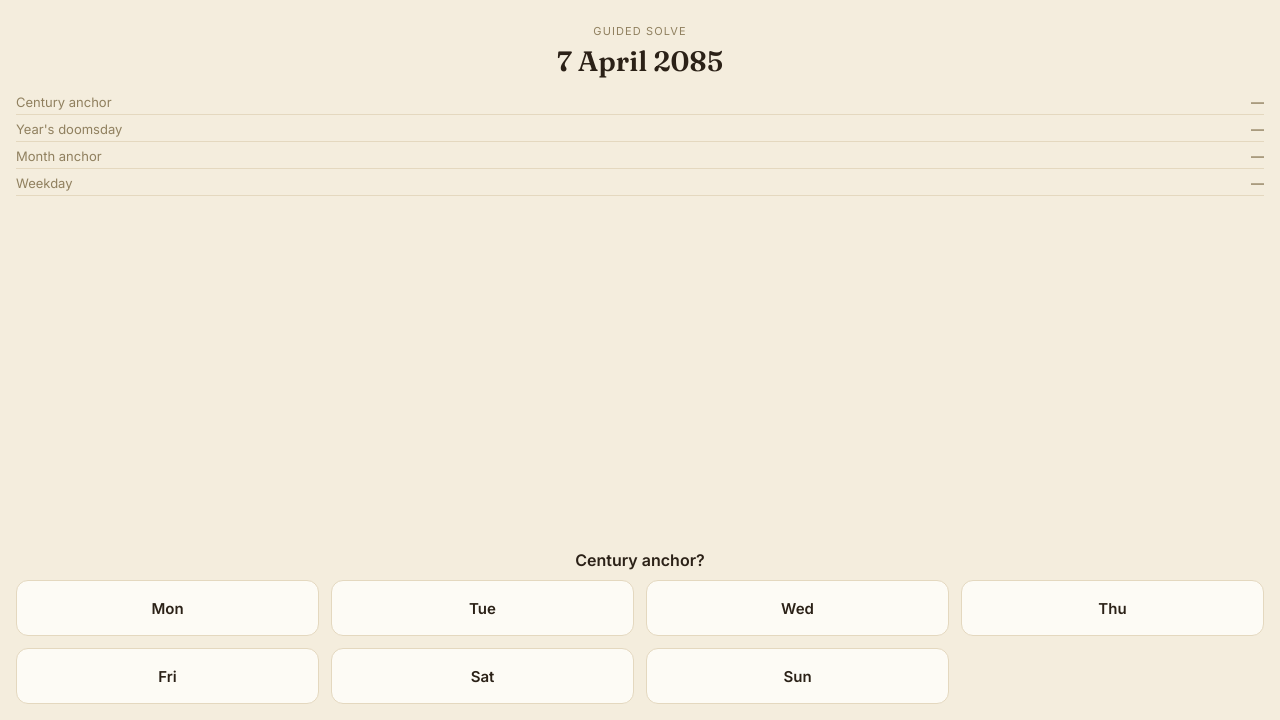
GuidedSolve › flags the year's-doomsday step independently right after its pick
# Correct century anchor, then a wrong year's doomsday.
Click the button with aria-label "Tuesday". click: click(482, 608)
box: [331,580,634,636]
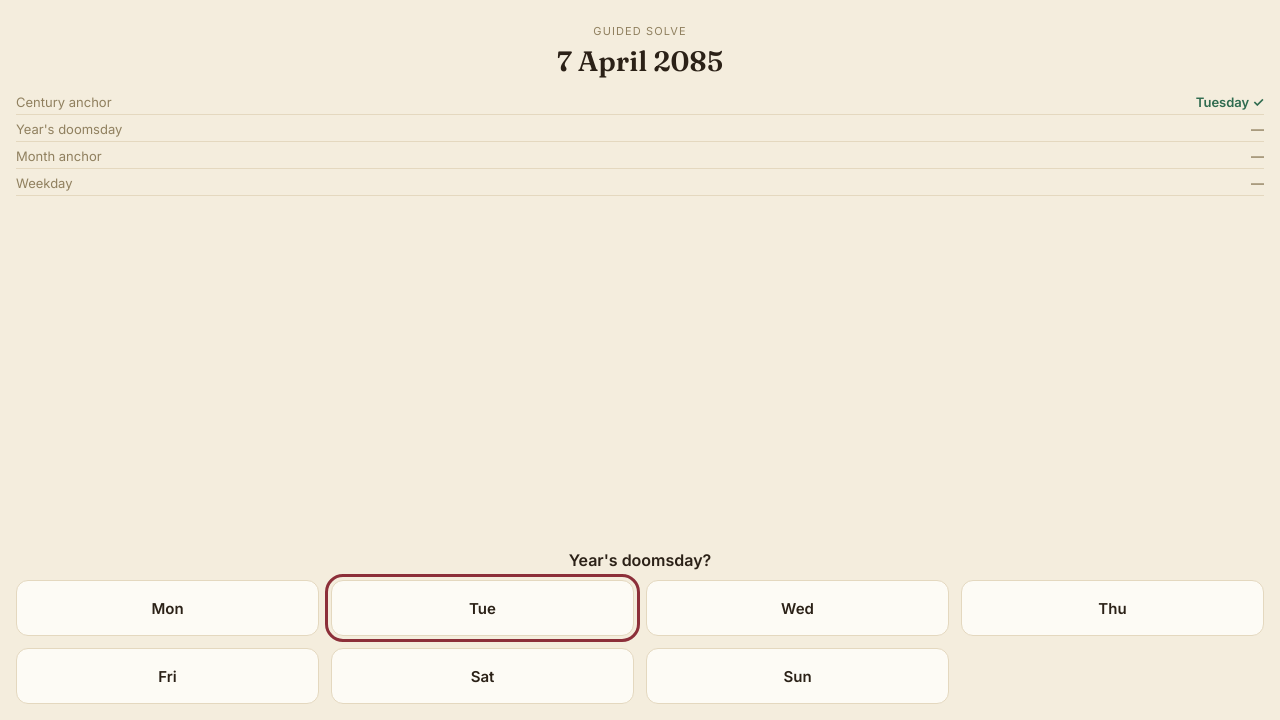
Click the button with aria-label "Thursday". click: click(1112, 608)
box: [961,580,1264,636]
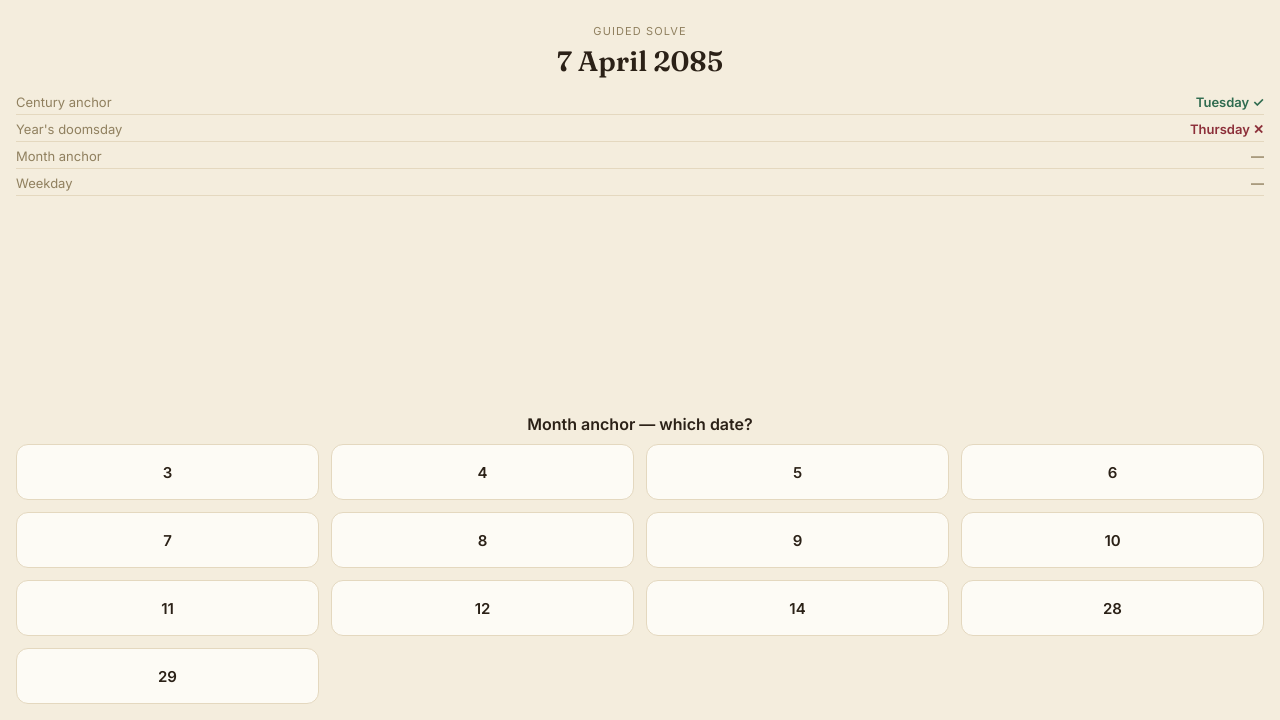
Now the text "Month anchor — which date?" is shown, box [527,414,753,434]
